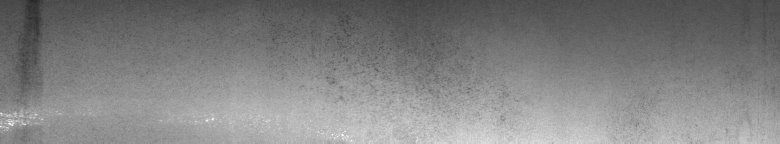ib: (325, 16, 391, 99)
